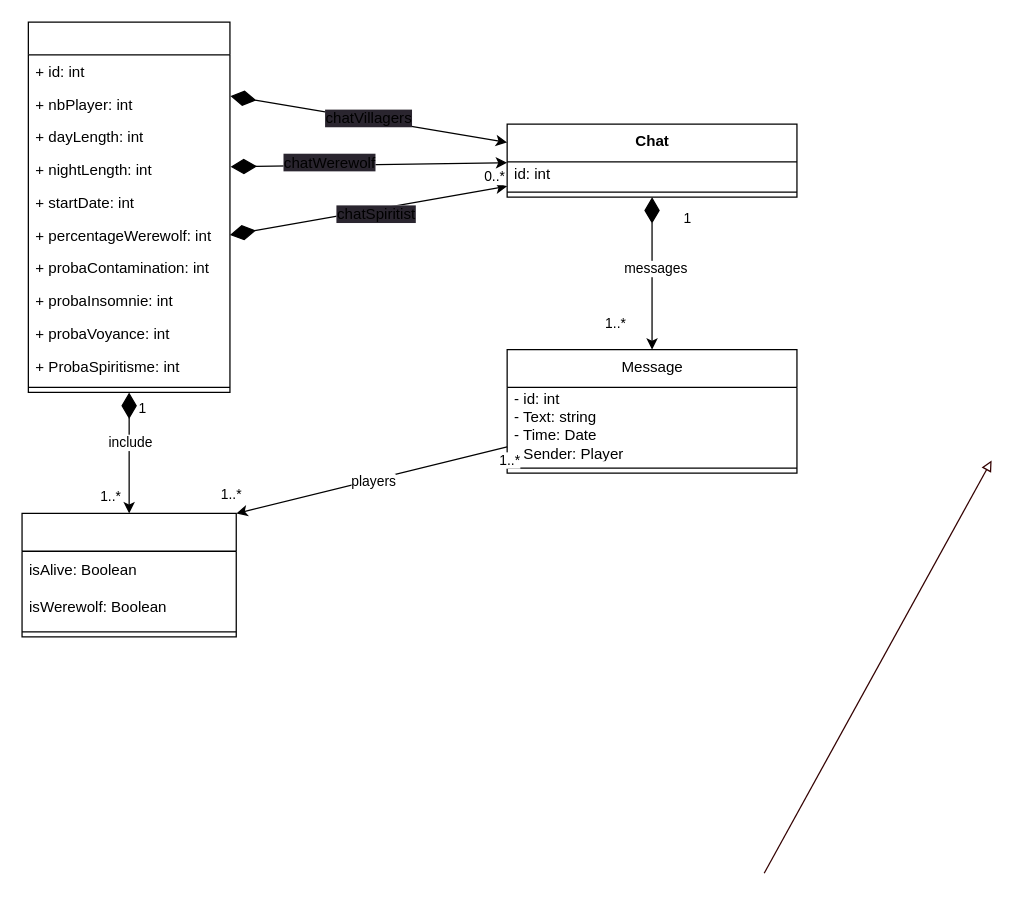
Some shapes in this 1024 by 906 pixel diagram are drawn without their labels. The box of each missing label's shape, as (x1, y1, x2, y2) in pixels:
Game: (27, 21, 230, 392)
Player: (21, 512, 236, 637)
